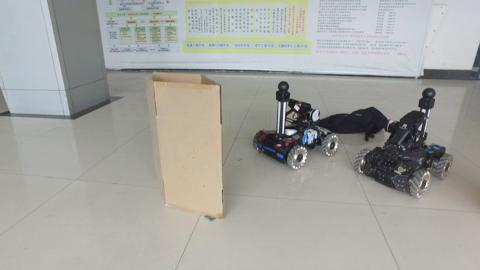box: (145, 68, 228, 222)
chariot: (350, 85, 453, 194), (257, 81, 338, 170)
